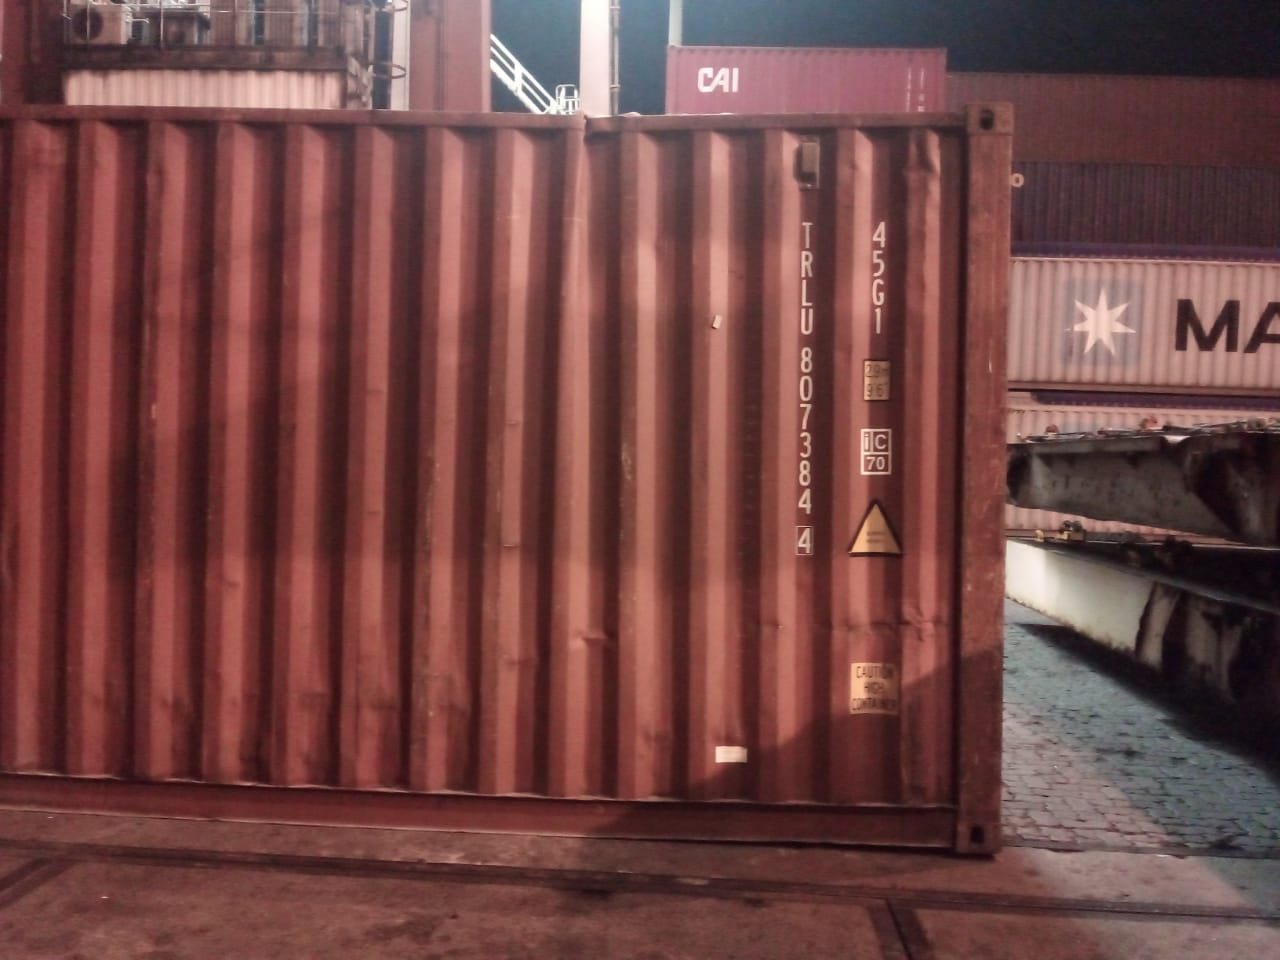dented: (789, 603, 952, 651), (892, 133, 959, 184)
